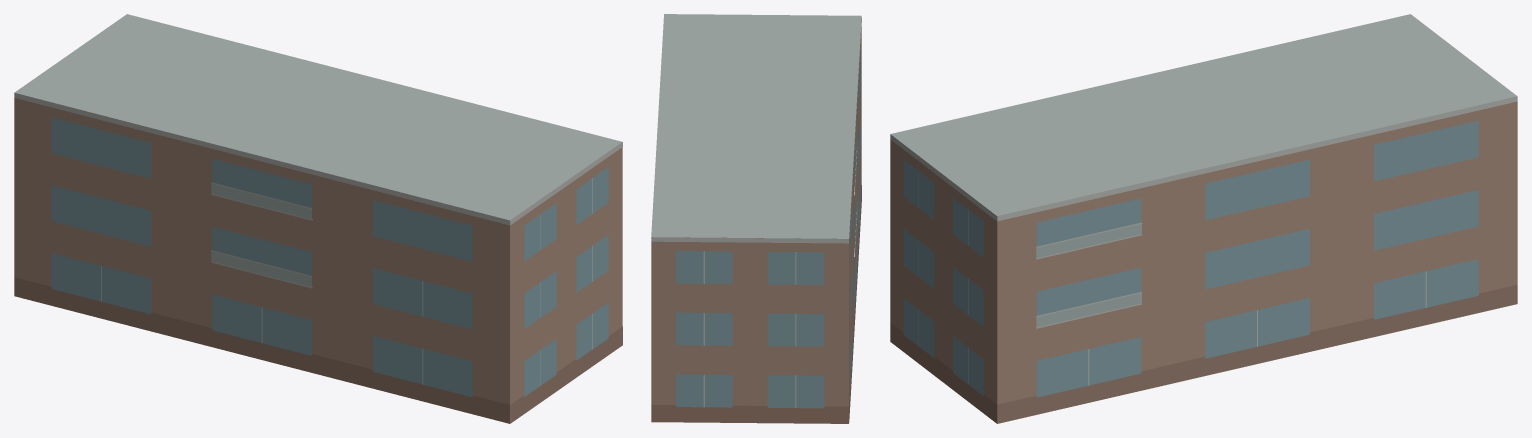
Rendered from survey-upis-32933911.glb.
The picture shows the model from 3 angles, left to right: view 1: azimuth 30°, elevation 25°; view 2: azimuth 150°, elevation 25°; view 3: azimuth 270°, elevation 25°; orthographic projection. The views are drawn at different scales.
Parts seen in each view (by area): view 1: survey-upis-32933911.tmp; view 2: survey-upis-32933911.tmp; view 3: survey-upis-32933911.tmp.
Part boxes in pixels (box(x1,y1,x2,y2)): survey-upis-32933911.tmp: box(14, 14, 622, 423); survey-upis-32933911.tmp: box(651, 14, 861, 423); survey-upis-32933911.tmp: box(890, 14, 1517, 423).
Size of the model in its own units: 20.48 by 9.8 by 26.84.
